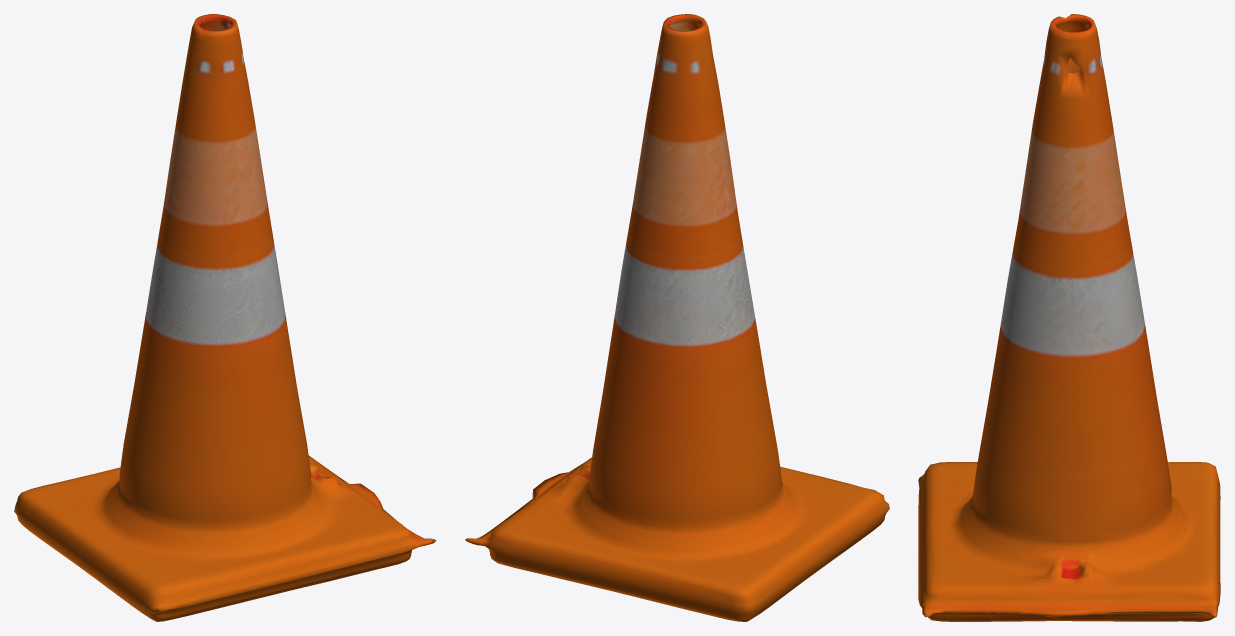
The model's file is 6225737-traffic-cone-game.glb.
The picture shows the model from 3 angles, left to right: view 1: azimuth 30°, elevation 25°; view 2: azimuth 150°, elevation 25°; view 3: azimuth 270°, elevation 25°; orthographic projection. The views are drawn at different scales.
Visible parts, largest first — view 1: Retopo_neural_node_7a00125d-cfee-4dee-9021-e183bc0fa2da; view 2: Retopo_neural_node_7a00125d-cfee-4dee-9021-e183bc0fa2da; view 3: Retopo_neural_node_7a00125d-cfee-4dee-9021-e183bc0fa2da.
Part boxes in pixels (x1,y1,x2,y2): Retopo_neural_node_7a00125d-cfee-4dee-9021-e183bc0fa2da: (14,14,436,621); Retopo_neural_node_7a00125d-cfee-4dee-9021-e183bc0fa2da: (465,14,889,621); Retopo_neural_node_7a00125d-cfee-4dee-9021-e183bc0fa2da: (918,14,1220,621).
Size of the model in its own units: 0.5417 by 0.9472 by 0.4819.
Materials: 1 (1 with a texture image).
